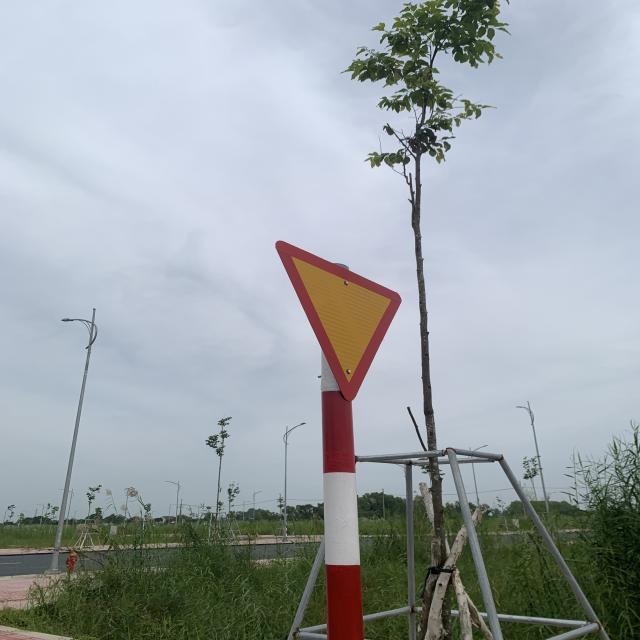Gioi_Han_Toc_Do_25: (274, 241, 403, 404)
